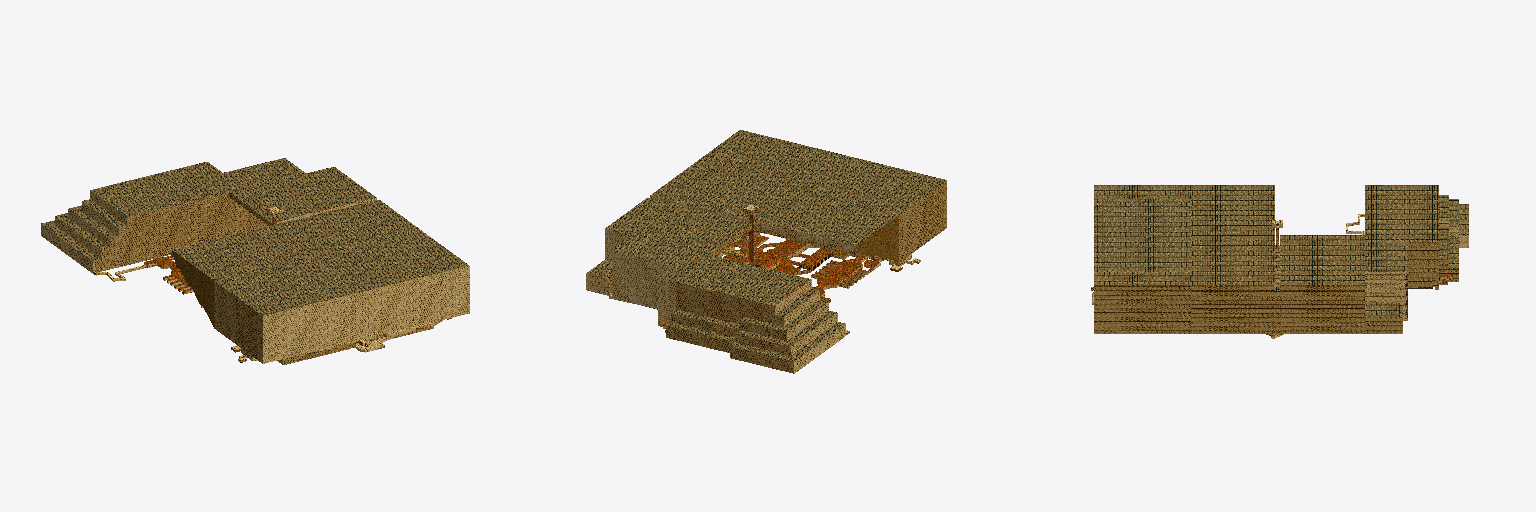
3 renders of one model, left to right at view 1: azimuth 30°, elevation 25°; view 2: azimuth 150°, elevation 25°; view 3: azimuth 270°, elevation 25°, orthographic.
Visible parts, largest first — view 1: Room1, Room175, Room172, Room174, Room173; view 2: Room175, Room1, Room172, Room174, Room173, Room195, Room21; view 3: Room1, Room172, Room175, Room173, Room174, Room195.
Boxes of the visible parts, box(x1,y1,x2,y2) form: Room1: box(214, 230, 469, 364); Room175: box(41, 158, 305, 272); Room172: box(172, 200, 419, 326); Room174: box(229, 177, 334, 225); Room173: box(294, 167, 376, 209); Room175: box(612, 236, 845, 373); Room1: box(693, 130, 946, 262); Room172: box(650, 165, 898, 262); Room174: box(647, 208, 751, 255); Room173: box(605, 198, 687, 260); Room195: box(586, 260, 611, 295); Room21: box(817, 259, 862, 288); Room1: box(1094, 185, 1190, 333); Room172: box(1191, 185, 1274, 333); Room175: box(1365, 185, 1468, 317); Room173: box(1275, 266, 1364, 333); Room174: box(1275, 235, 1364, 286); Room195: box(1365, 303, 1402, 333).
Size of the model in its own units: 28672 by 9712 by 38787.
127 materials, 124 textured.